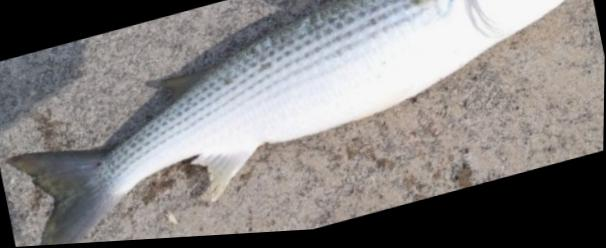fish: (7, 0, 575, 246)
